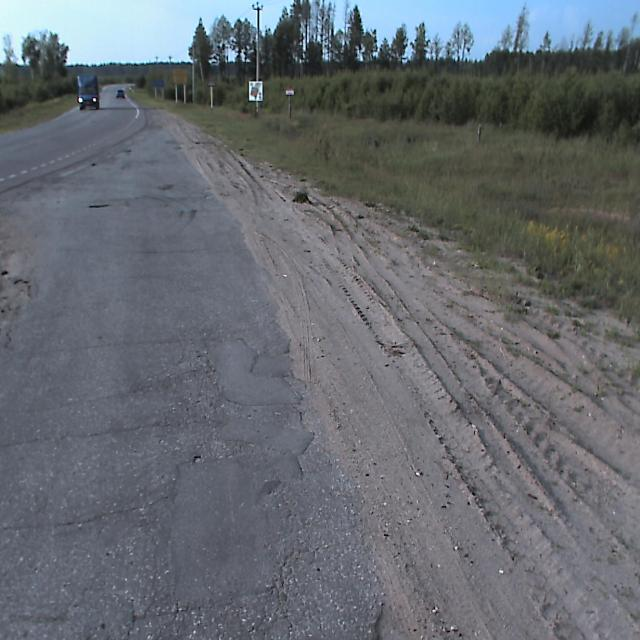road: (0, 84, 407, 639)
